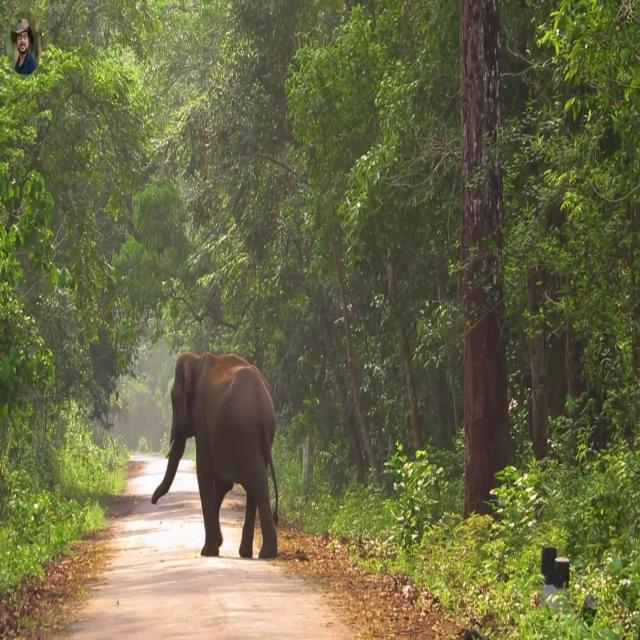Elephant: (150, 349, 278, 559)
person: (10, 17, 42, 75)
